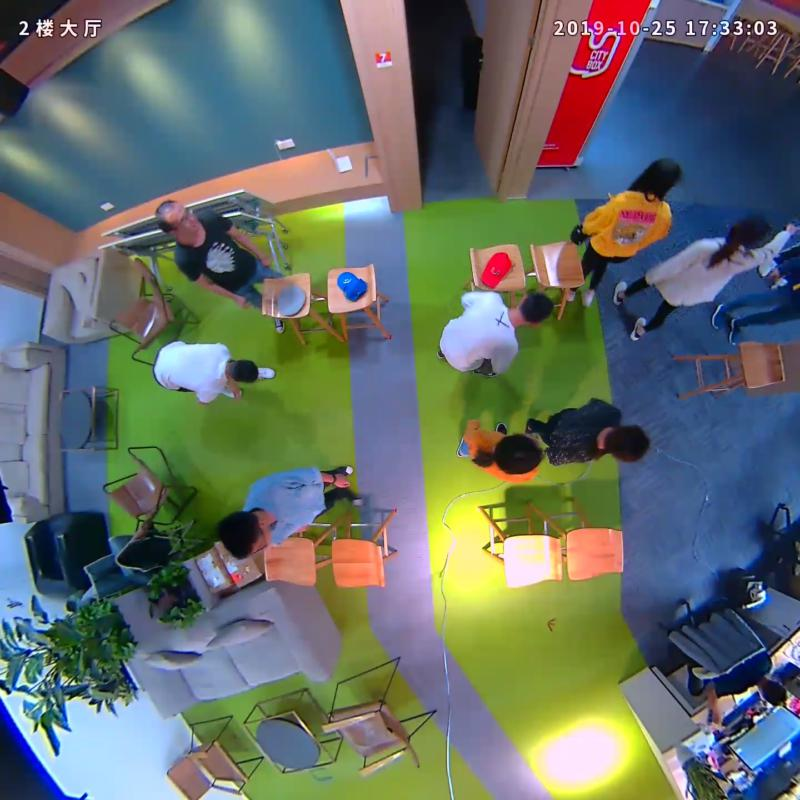head: (141, 195, 214, 250), (209, 504, 275, 564), (597, 421, 679, 469), (630, 154, 682, 209), (490, 430, 547, 480), (507, 287, 564, 326), (717, 211, 772, 250), (224, 354, 269, 389)
